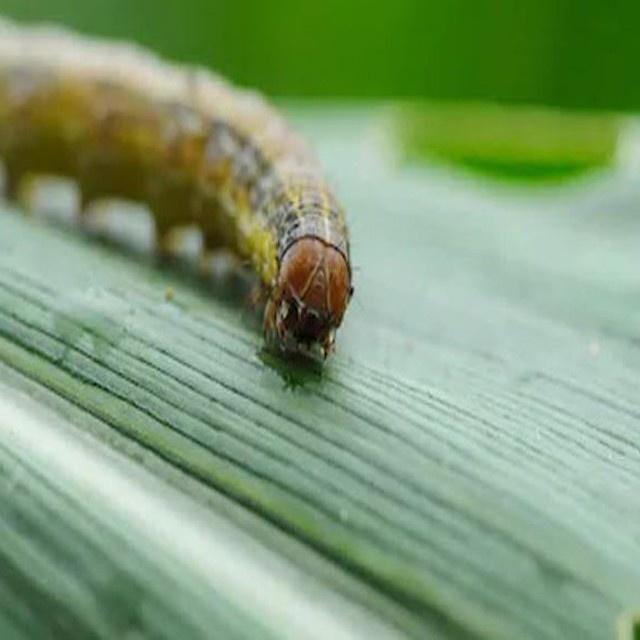gusano_cogollero: (0, 17, 361, 359)
